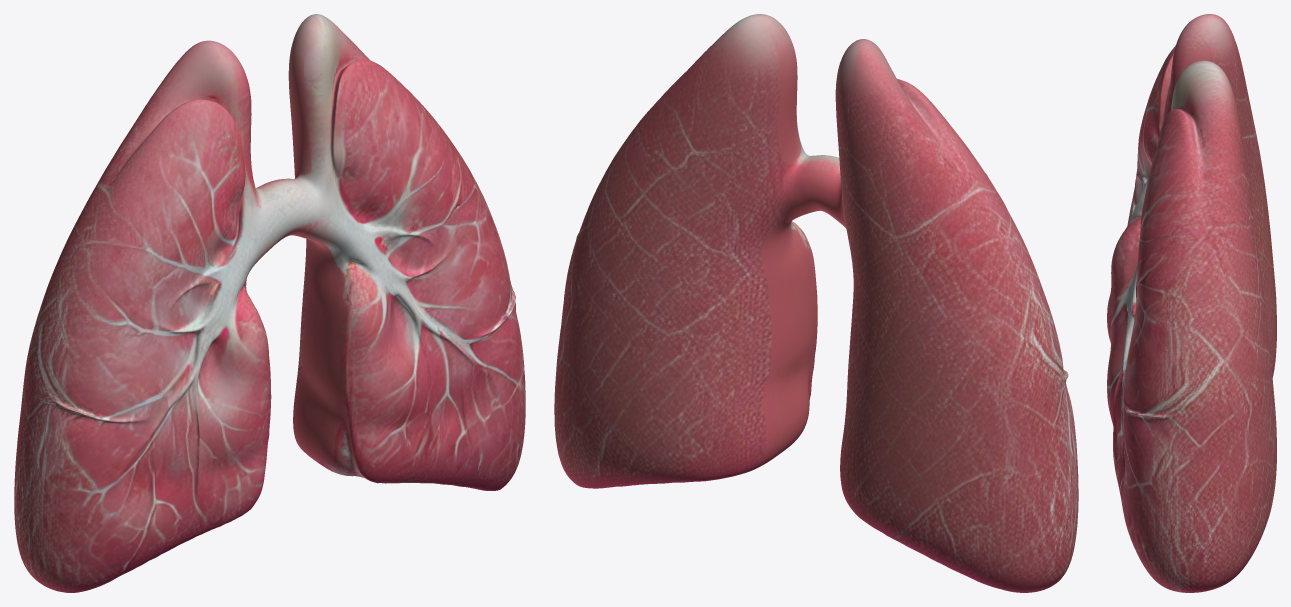
File: cow_lungs.glb
3 views of the same model, side by side, from view 1: azimuth 30°, elevation 25°; view 2: azimuth 150°, elevation 25°; view 3: azimuth 270°, elevation 25° (orthographic). The views are drawn at different scales.
Visible parts, largest first — view 1: model; view 2: model; view 3: model.
Part boxes in pixels (<box>): model: <box>14,14,525,592</box>; model: <box>554,14,1078,592</box>; model: <box>1107,14,1276,592</box>.
Bounding box in the file's own units: 1.9 × 1.83 × 0.6211.
1 material, 1 textured.
